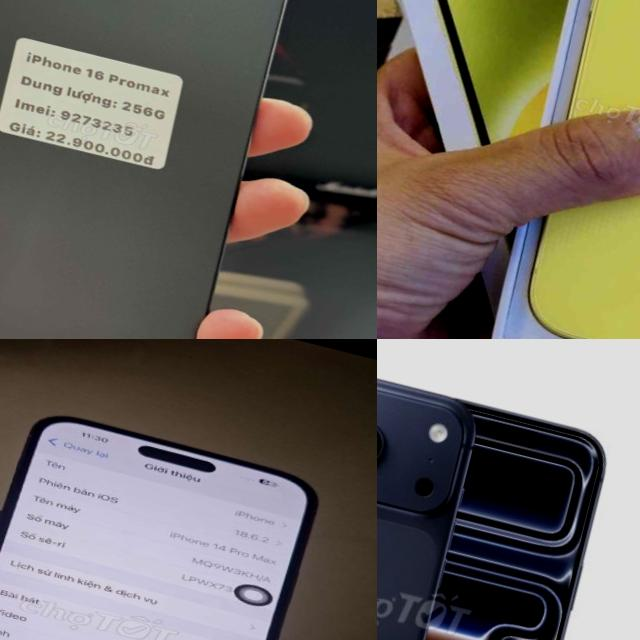gen_14: (0, 396, 333, 640), (493, 0, 640, 339)
gen_16: (0, 0, 284, 339)
gen_17: (377, 351, 487, 640)
